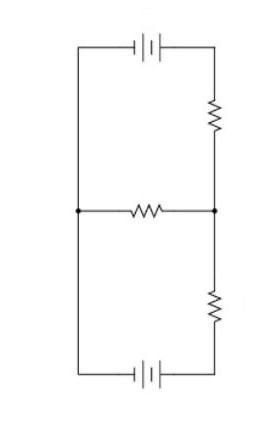resistor: (193, 78, 230, 149), (114, 184, 175, 223), (188, 267, 228, 326)
